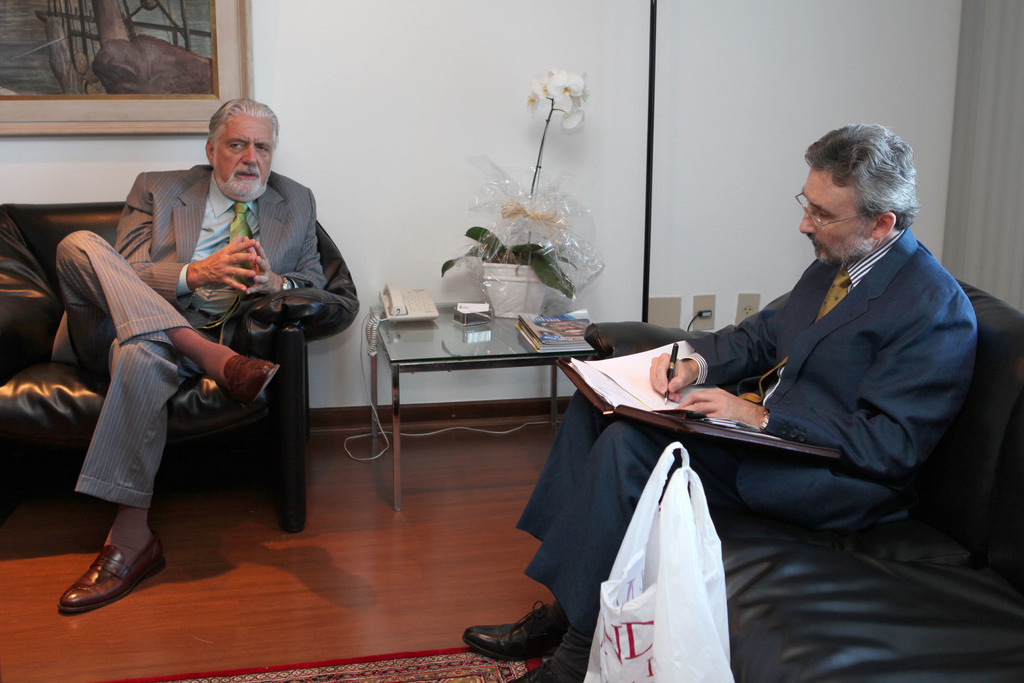Human_hand: (685, 383, 785, 441), (209, 235, 259, 295), (648, 348, 696, 403), (243, 236, 278, 299)
